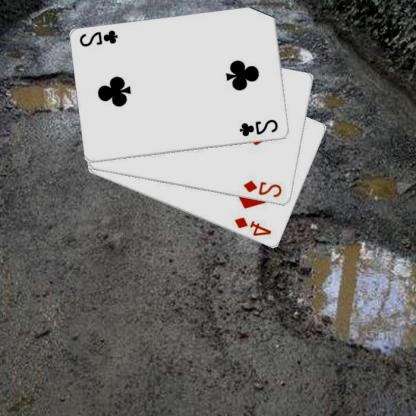2C: (239, 117, 281, 138), (79, 28, 121, 48)
2D: (243, 178, 285, 199)
4D: (234, 214, 274, 237)
